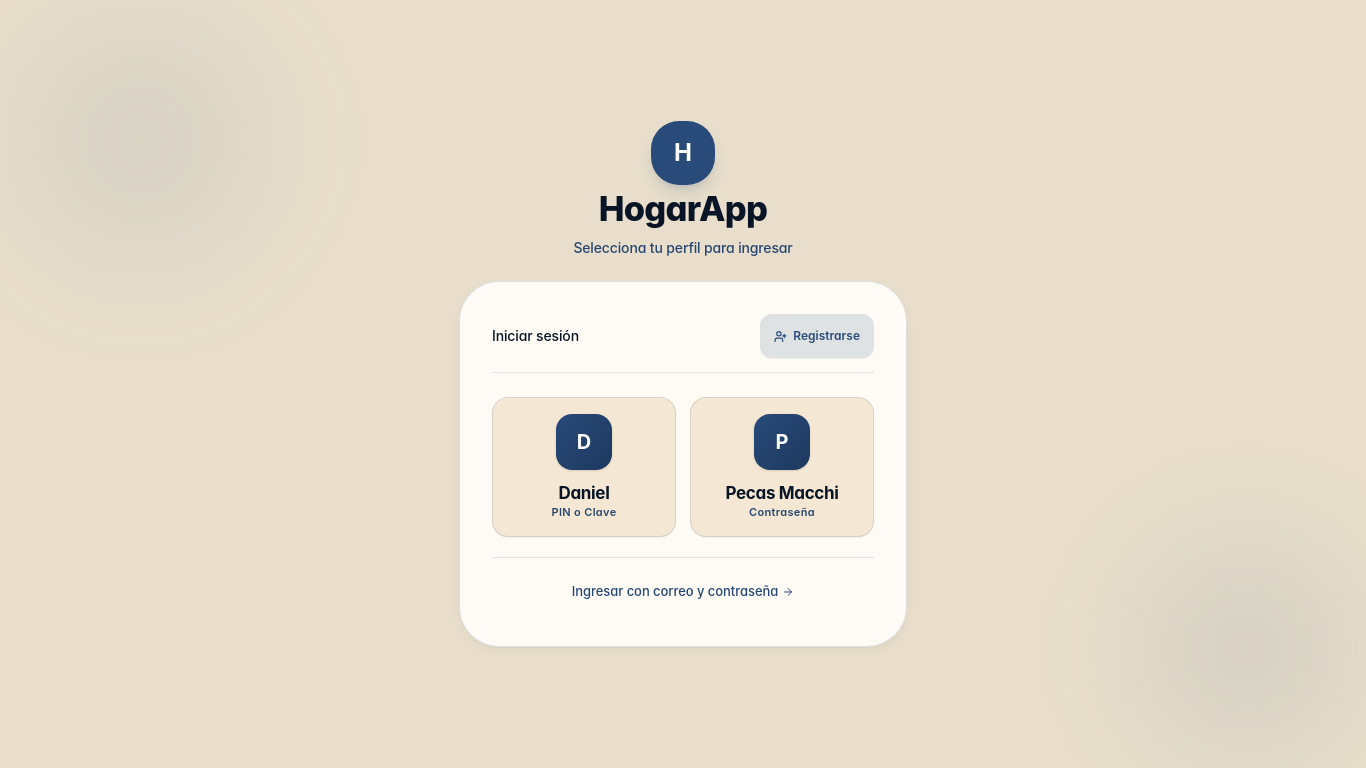
LoginForm Component Interaction Tests › allows switching to password input from PIN view
Click the button "D Daniel PIN o Clave": (584, 467) [492,397,676,537]
(page scrolled)
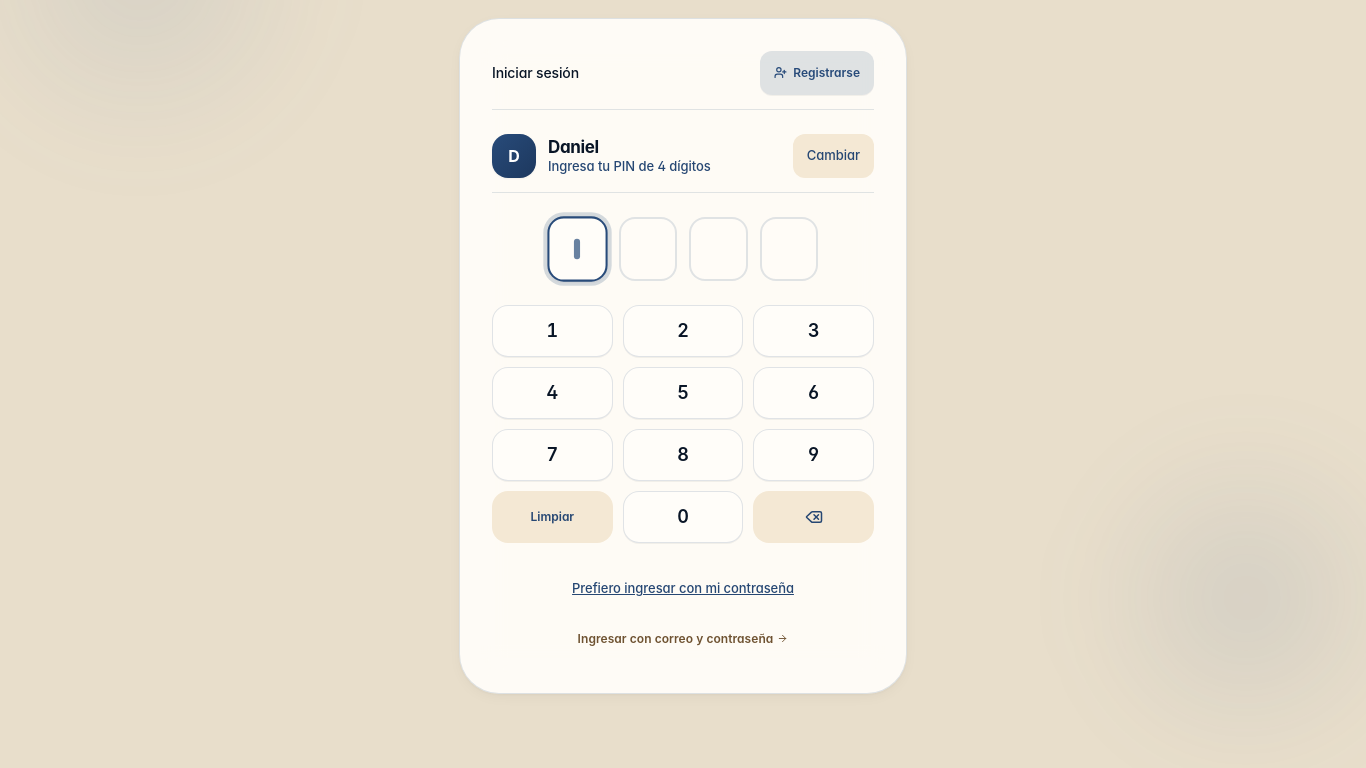
Click the button "Prefiero ingresar con mi contraseña": (683, 589) [560,567,806,611]
(page scrolled)
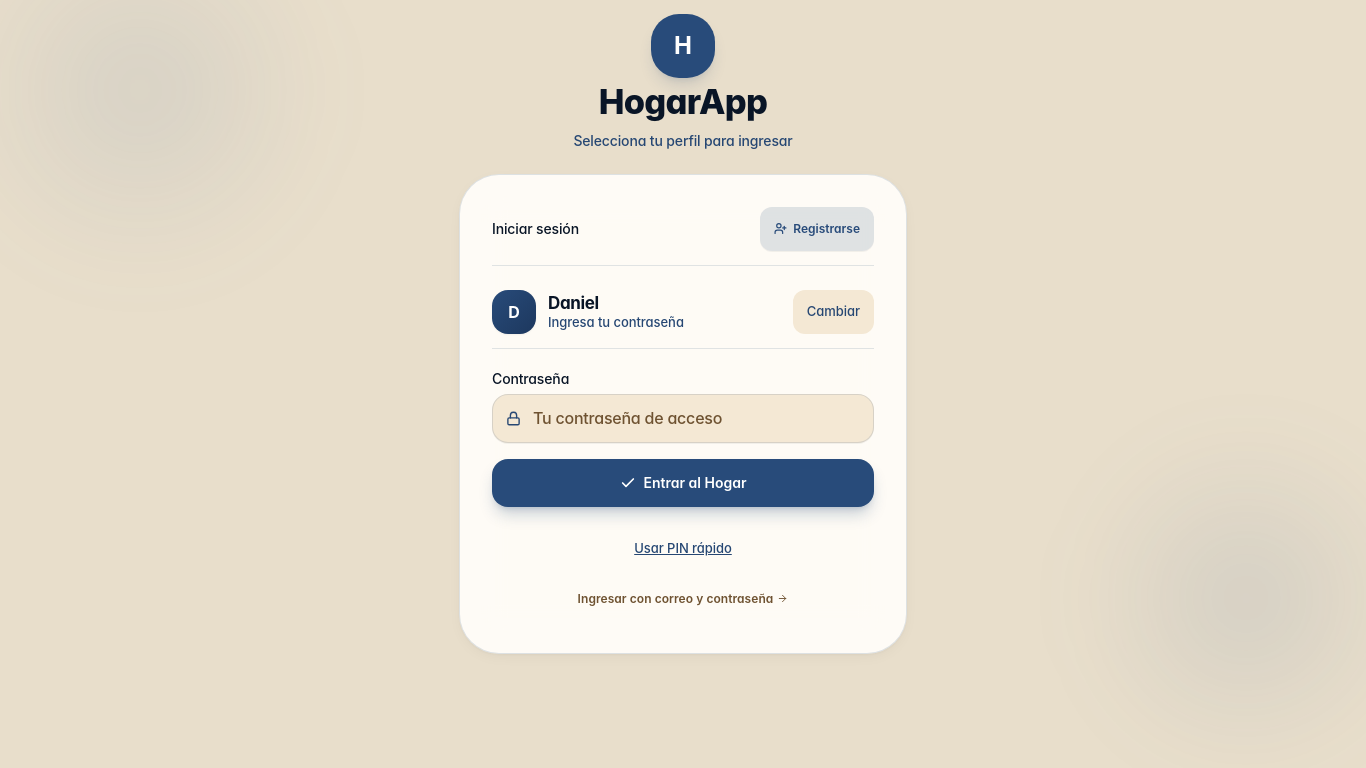
Now the password field with placeholder "Tu contraseña de acceso" is shown, box [492,394,874,443]
